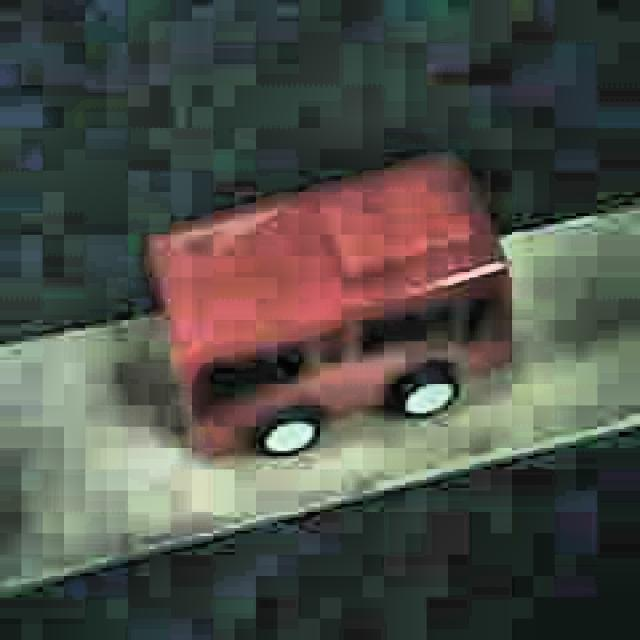bus: (145, 153, 516, 466)
